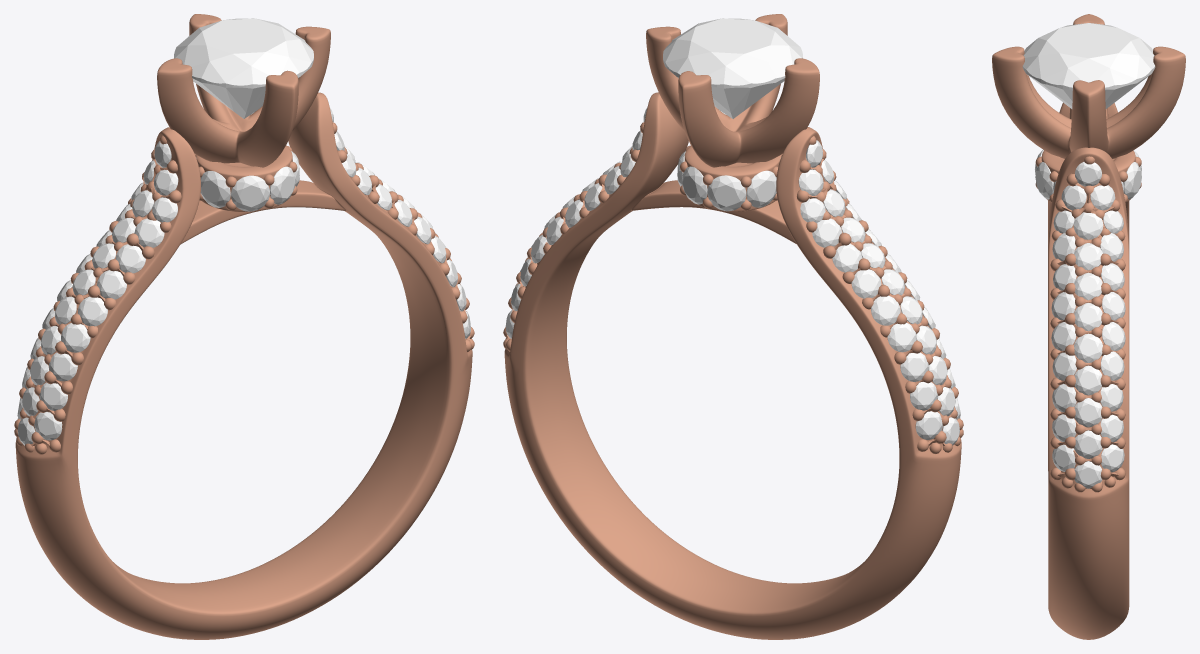
File: nhan2-d.glb
3 renders of one model, left to right at view 1: azimuth 30°, elevation 25°; view 2: azimuth 150°, elevation 25°; view 3: azimuth 270°, elevation 25°, orthographic. The views are drawn at different scales.
Visible parts, largest first — view 1: Ring, Diamond-Placeholder-big, Diamond-Placeholder-ring001, Diamond-Placeholder-ring008, Diamond-Placeholder-ring002, Diamond-Placeholder-pave018, Diamond-Placeholder-pave015, Diamond-Placeholder-pave021, Diamond-Placeholder-pave012, Diamond-Placeholder-pave009; view 2: Ring, Diamond-Placeholder-big, Diamond-Placeholder-ring006, Diamond-Placeholder-ring007, Diamond-Placeholder-ring005, Diamond-Placeholder-pave016, Diamond-Placeholder-pave013, Diamond-Placeholder-pave019, Diamond-Placeholder-pave007, Diamond-Placeholder-pave022; view 3: Ring, Diamond-Placeholder-big, Diamond-Placeholder-pave047, Diamond-Placeholder-pave050, Diamond-Placeholder-pave053, Diamond-Placeholder-pave035, Diamond-Placeholder-pave044, Diamond-Placeholder-pave056, Diamond-Placeholder-pave041, Diamond-Placeholder-pave038, Diamond-Placeholder-pave059, Diamond-Placeholder-pave046 (+22 smaller).
Boxes of the visible parts, x1,y1,x2,y2 form: Ring: (14, 14, 474, 639); Diamond-Placeholder-big: (174, 18, 313, 118); Diamond-Placeholder-ring001: (231, 175, 269, 211); Diamond-Placeholder-ring008: (200, 171, 230, 207); Diamond-Placeholder-ring002: (269, 166, 294, 204); Diamond-Placeholder-pave018: (78, 296, 107, 326); Diamond-Placeholder-pave015: (97, 270, 126, 299); Diamond-Placeholder-pave021: (61, 323, 90, 352); Diamond-Placeholder-pave012: (116, 244, 145, 273); Diamond-Placeholder-pave009: (134, 218, 164, 247); Ring: (503, 14, 963, 639); Diamond-Placeholder-big: (663, 18, 802, 118); Diamond-Placeholder-ring006: (707, 175, 746, 211); Diamond-Placeholder-ring007: (746, 170, 776, 207); Diamond-Placeholder-ring005: (682, 166, 707, 204); Diamond-Placeholder-pave016: (871, 295, 900, 325); Diamond-Placeholder-pave013: (851, 269, 881, 298); Diamond-Placeholder-pave019: (887, 322, 916, 352); Diamond-Placeholder-pave007: (812, 218, 841, 247); Diamond-Placeholder-pave022: (900, 352, 928, 381); Ring: (992, 14, 1185, 639); Diamond-Placeholder-big: (1022, 23, 1155, 108); Diamond-Placeholder-pave047: (1074, 333, 1102, 362); Diamond-Placeholder-pave050: (1074, 365, 1102, 395); Diamond-Placeholder-pave053: (1074, 398, 1102, 427); Diamond-Placeholder-pave035: (1073, 212, 1103, 239); Diamond-Placeholder-pave044: (1074, 303, 1102, 331); Diamond-Placeholder-pave056: (1074, 430, 1102, 458); Diamond-Placeholder-pave041: (1074, 272, 1102, 300); Diamond-Placeholder-pave038: (1074, 243, 1102, 270); Diamond-Placeholder-pave059: (1074, 461, 1101, 488); Diamond-Placeholder-pave046: (1051, 322, 1076, 350).
Size of the model in its own units: 2.4 by 3.06 by 0.9328.
